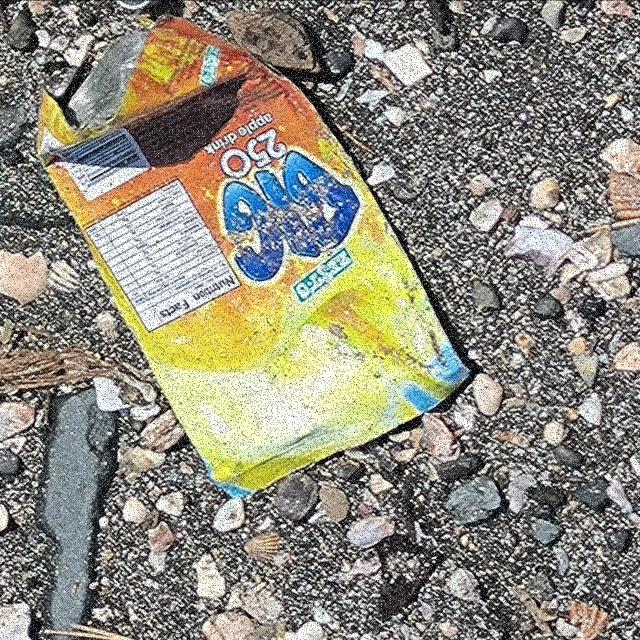plastic_waste: (36, 13, 475, 501)
